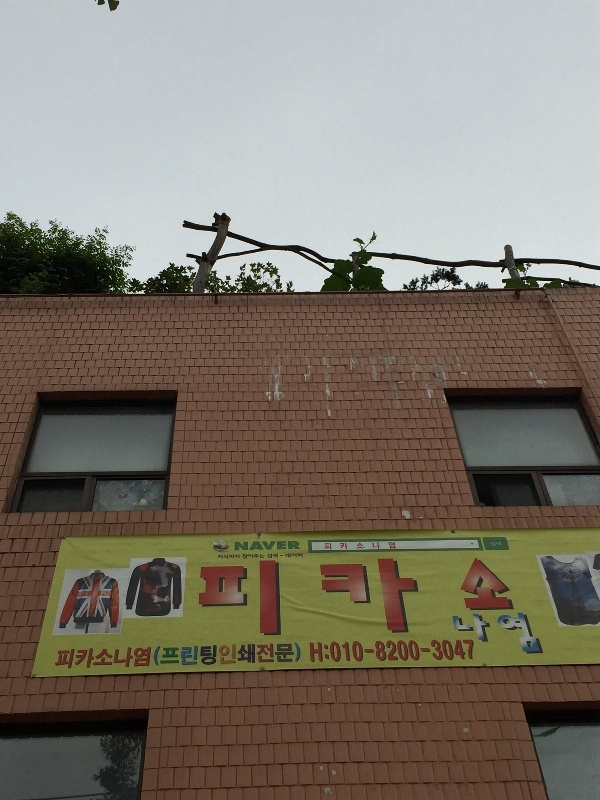text: (209, 555, 224, 639), (225, 555, 240, 639), (241, 555, 256, 639), (257, 555, 272, 639), (273, 555, 288, 639), (289, 555, 304, 639), (305, 555, 320, 639), (321, 555, 336, 639), (337, 555, 352, 639), (353, 555, 368, 639), (369, 555, 384, 639), (385, 555, 400, 639), (401, 555, 416, 639), (513, 553, 529, 617), (481, 553, 496, 617), (497, 553, 512, 617), (417, 555, 428, 639), (468, 553, 480, 617), (200, 555, 208, 639), (465, 611, 480, 654), (481, 611, 496, 654), (497, 611, 512, 654), (513, 611, 528, 654), (529, 611, 542, 654), (452, 611, 464, 654), (321, 637, 336, 668), (337, 637, 352, 668), (353, 637, 368, 668), (369, 637, 384, 668), (385, 637, 400, 668), (401, 637, 416, 668), (417, 637, 432, 668), (433, 637, 448, 668), (449, 637, 464, 668), (161, 641, 176, 670), (177, 641, 192, 670), (193, 641, 208, 670), (209, 641, 224, 670), (225, 641, 240, 670), (241, 641, 256, 670), (257, 641, 272, 670), (273, 641, 288, 670), (65, 645, 80, 673), (81, 645, 96, 673), (97, 645, 112, 673), (113, 645, 128, 673), (129, 645, 144, 673), (289, 641, 302, 670), (309, 637, 320, 668), (465, 637, 475, 668), (56, 645, 64, 673), (145, 645, 153, 673), (241, 540, 256, 553), (257, 540, 272, 553), (273, 540, 288, 553), (154, 641, 160, 670), (289, 540, 302, 553), (337, 541, 352, 551), (353, 541, 368, 551), (369, 541, 384, 551), (324, 541, 336, 551), (385, 541, 396, 551), (225, 554, 240, 561), (273, 552, 288, 559), (242, 553, 256, 560), (289, 552, 303, 559), (235, 540, 240, 553), (257, 553, 265, 560), (218, 554, 224, 561), (490, 541, 496, 548), (267, 552, 272, 559), (497, 541, 501, 548)
